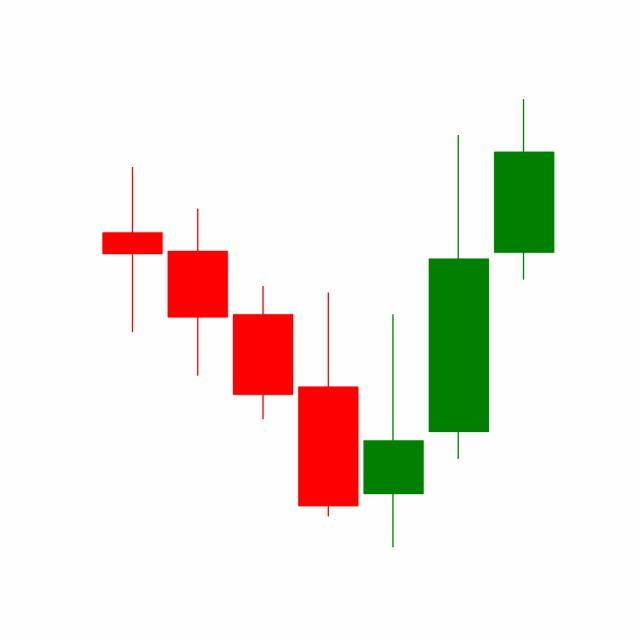Three Inside Up-Down: (295, 130, 492, 548)
